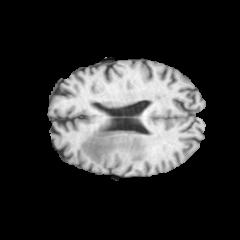glioma: (81, 131, 146, 164)
